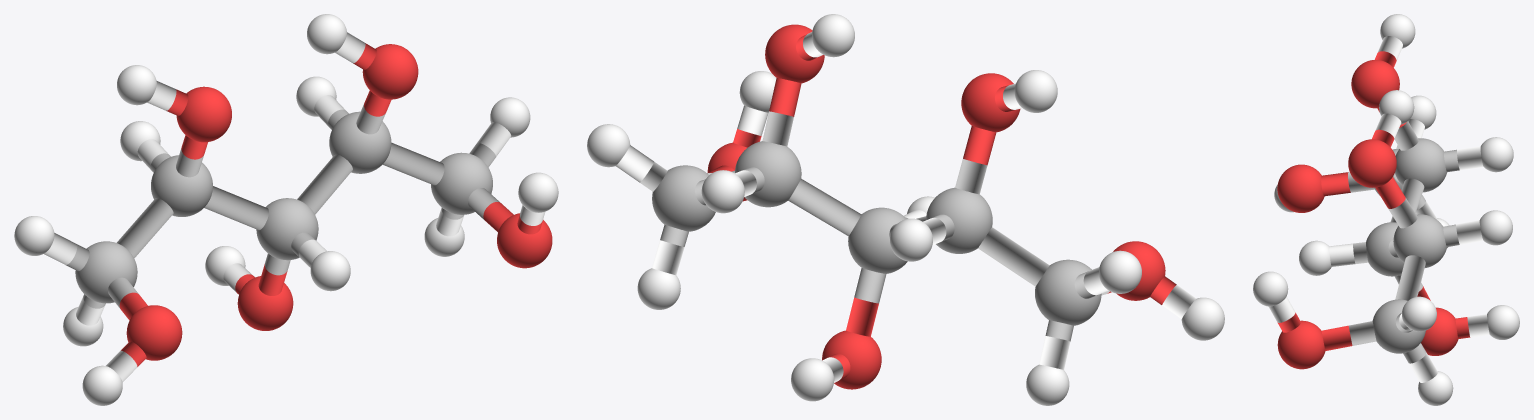
File: xylitol.glb
3 renders of one model, left to right at view 1: azimuth 30°, elevation 25°; view 2: azimuth 150°, elevation 25°; view 3: azimuth 270°, elevation 25°, orthographic. The views are drawn at different scales.
Visible parts, largest first — view 1: xylitol; view 2: xylitol; view 3: xylitol.
Boxes of the visible parts, box(x1,y1,x2,y2) form: xylitol: box(14, 14, 558, 405); xylitol: box(587, 14, 1224, 405); xylitol: box(1253, 14, 1519, 405).
Bounding box in the file's own units: 7.48 × 4.43 × 3.84.
